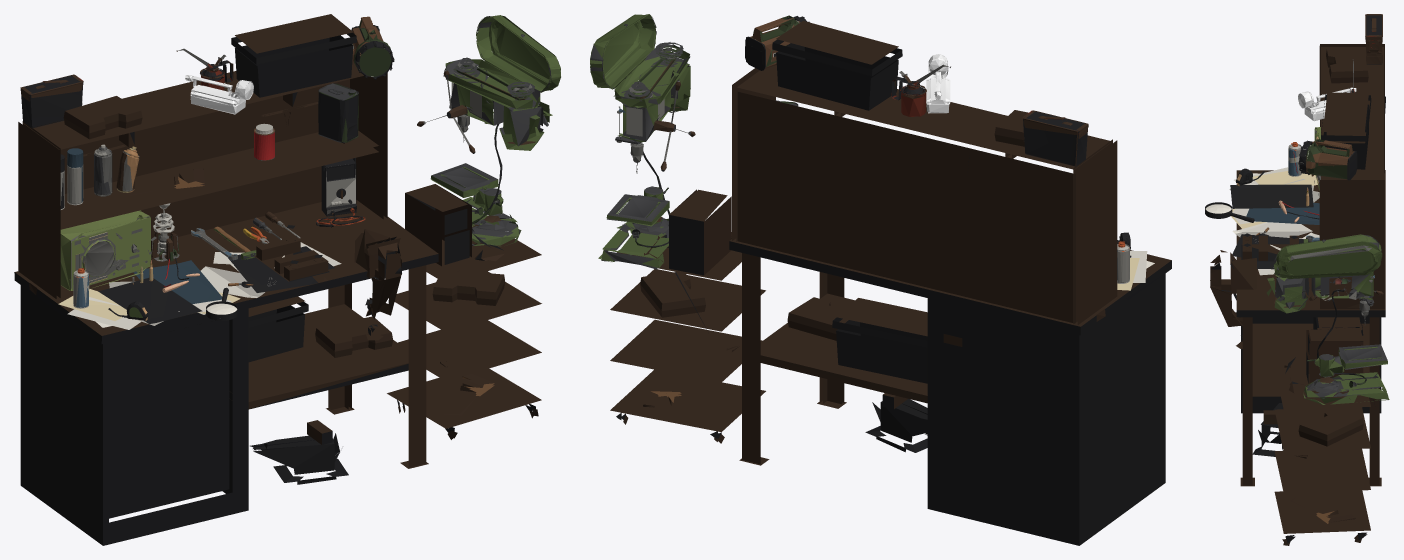
The model's file is workbench.glb.
3 renders of one model, left to right at view 1: azimuth 30°, elevation 25°; view 2: azimuth 150°, elevation 25°; view 3: azimuth 270°, elevation 25°, orthographic. The views are drawn at different scales.
Visible parts, largest first — view 1: Desk, drill_press_01, vintage_spacecraft_instrument, drill_press_01_lid, ammo_box, Paper_blue_08, oil_tin, drill_press_01_plate, portable_searchlight, Paper_blue_06, retro_multimeter_LOD0, vintage_flashlight (+9 smaller); view 2: Desk, drill_press_01, drill_press_01_lid, ammo_box, portable_searchlight, drill_press_01_plate, vintage_flashlight, small_oil_can_01; view 3: Desk, drill_press_01, drill_press_01_lid, portable_searchlight, Paper_blue_08, drill_press_01_plate, Paper_blue_06, ammo_box, Paper_paper_07, vintage_flashlight, Paper_paper_09, magnifying_glass_01 (+4 smaller).
Boxes of the visible parts, <box> form: Desk: <box>14,14,541,545</box>; drill_press_01: <box>443,59,552,246</box>; vintage_spacecraft_instrument: <box>60,210,151,290</box>; drill_press_01_lid: <box>476,15,560,92</box>; ammo_box: <box>20,74,83,128</box>; Paper_blue_08: <box>98,278,202,323</box>; oil_tin: <box>318,83,358,142</box>; drill_press_01_plate: <box>430,163,503,215</box>; portable_searchlight: <box>351,16,394,79</box>; Paper_blue_06: <box>133,260,222,303</box>; retro_multimeter_LOD0: <box>321,158,356,216</box>; vintage_flashlight: <box>185,75,253,114</box>; Desk: <box>610,21,1171,545</box>; drill_press_01: <box>598,48,690,269</box>; drill_press_01_lid: <box>590,14,656,89</box>; ammo_box: <box>1022,110,1088,166</box>; portable_searchlight: <box>745,15,809,70</box>; drill_press_01_plate: <box>606,186,669,226</box>; vintage_flashlight: <box>926,54,950,113</box>; small_oil_can_01: <box>891,64,950,116</box>; Desk: <box>1210,44,1385,545</box>; drill_press_01: <box>1266,262,1389,404</box>; drill_press_01_lid: <box>1274,234,1382,278</box>; portable_searchlight: <box>1298,139,1357,180</box>; Paper_blue_08: <box>1230,184,1313,208</box>; drill_press_01_plate: <box>1314,344,1387,377</box>; Paper_blue_06: <box>1244,202,1319,224</box>; ammo_box: <box>1365,14,1382,64</box>; Paper_paper_07: <box>1232,222,1312,237</box>; vintage_flashlight: <box>1298,87,1356,121</box>; Paper_paper_09: <box>1252,171,1317,185</box>; magnifying_glass_01: <box>1205,202,1254,222</box>.
Bounding box in the file's own units: 2.33 × 1.89 × 0.9102.
Materials: 80 (2 with a texture image).
